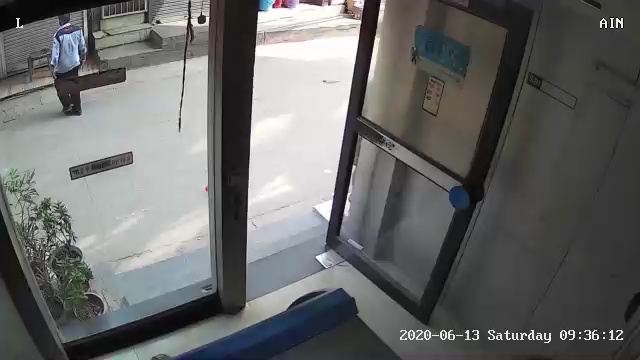open: (190, 4, 543, 332)
